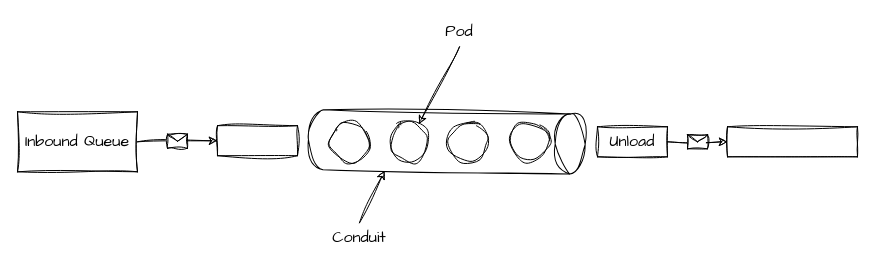
The diagram is 875 pixels wide and 270 high, and some of its shapes have lost their labels. Each missing label, with the centre of its shape:
Load: point 257,140
Outbound Queue: point 792,141
